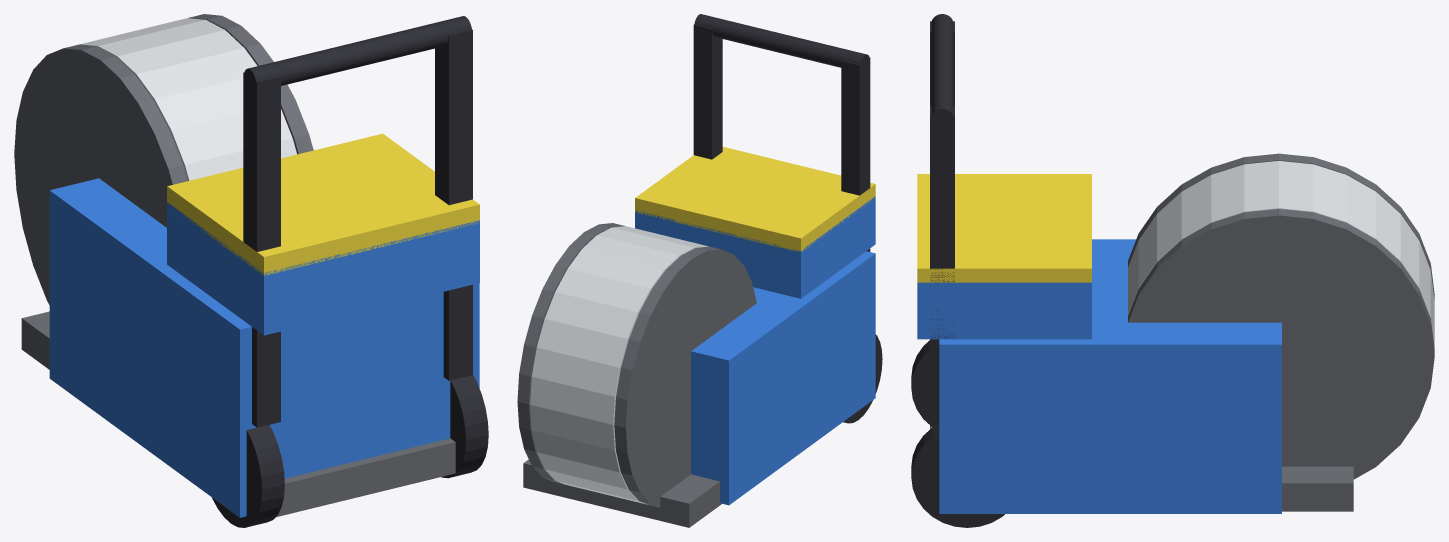
File: strap_cart.glb
3 views of the same model, side by side, from view 1: azimuth 30°, elevation 25°; view 2: azimuth 150°, elevation 25°; view 3: azimuth 270°, elevation 25° (orthographic). The views are drawn at different scales.
Parts seen in each view (by area): view 1: Frame, TrayLip, BobbinDisc_L, Tray, Bobbin, HandlePost_L, HandlePost_R, Base, HandleGrip, Wheel_L, Wheel_R, BobbinDisc_R; view 2: Frame, Bobbin, BobbinDisc_L, TrayLip, Tray, Base, HandlePost_L, HandlePost_R, BobbinDisc_R, HandleGrip, Wheel_L; view 3: Frame, BobbinDisc_R, TrayLip, Bobbin, Tray, HandlePost_R, Base, Wheel_R, HandleGrip, BobbinDisc_L, Wheel_L.
Part boxes in pixels (x1,y1,x2,y2): Frame: [49, 149, 479, 517]; TrayLip: [167, 133, 479, 275]; BobbinDisc_L: [14, 44, 187, 304]; Tray: [167, 202, 479, 335]; Bobbin: [79, 18, 296, 180]; HandlePost_L: [243, 72, 280, 427]; HandlePost_R: [435, 29, 472, 380]; Base: [21, 311, 455, 517]; HandleGrip: [244, 16, 471, 92]; Wheel_L: [212, 425, 284, 527]; Wheel_R: [441, 375, 488, 478]; BobbinDisc_R: [189, 14, 313, 154]; Frame: [691, 251, 875, 505]; Bobbin: [530, 226, 708, 504]; BobbinDisc_L: [614, 246, 756, 507]; TrayLip: [635, 147, 875, 251]; Tray: [635, 196, 875, 298]; Base: [523, 459, 721, 527]; HandlePost_L: [841, 57, 870, 251]; HandlePost_R: [693, 24, 722, 159]; BobbinDisc_R: [517, 223, 624, 484]; HandleGrip: [694, 14, 869, 73]; Wheel_L: [843, 334, 882, 423]; Frame: [939, 239, 1281, 513]; BobbinDisc_R: [1128, 209, 1434, 479]; TrayLip: [917, 174, 1091, 282]; Bobbin: [1128, 161, 1434, 347]; Tray: [917, 282, 1091, 339]; HandlePost_R: [930, 105, 954, 426]; Base: [930, 426, 1353, 511]; Wheel_R: [911, 426, 1004, 527]; HandleGrip: [931, 14, 953, 128]; BobbinDisc_L: [1128, 153, 1434, 299]; Wheel_L: [911, 340, 929, 424].
Bounding box in the file's own units: 0.4 × 0.738 × 0.84.
